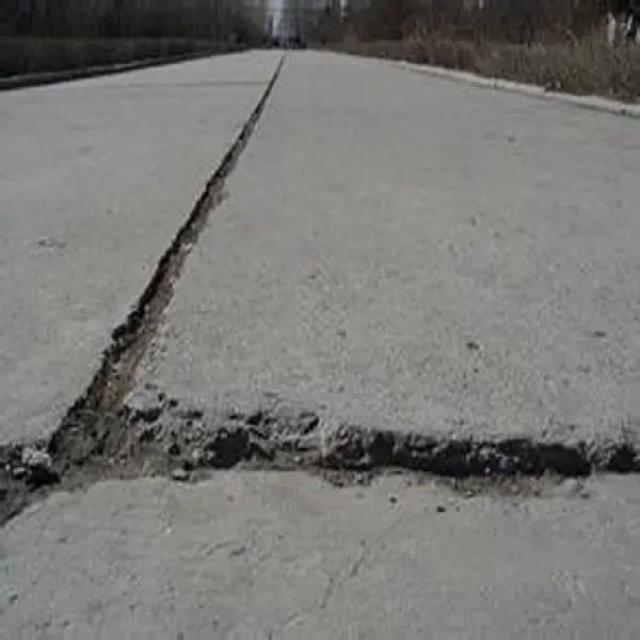Pothole: (60, 56, 286, 397), (45, 400, 637, 500)
